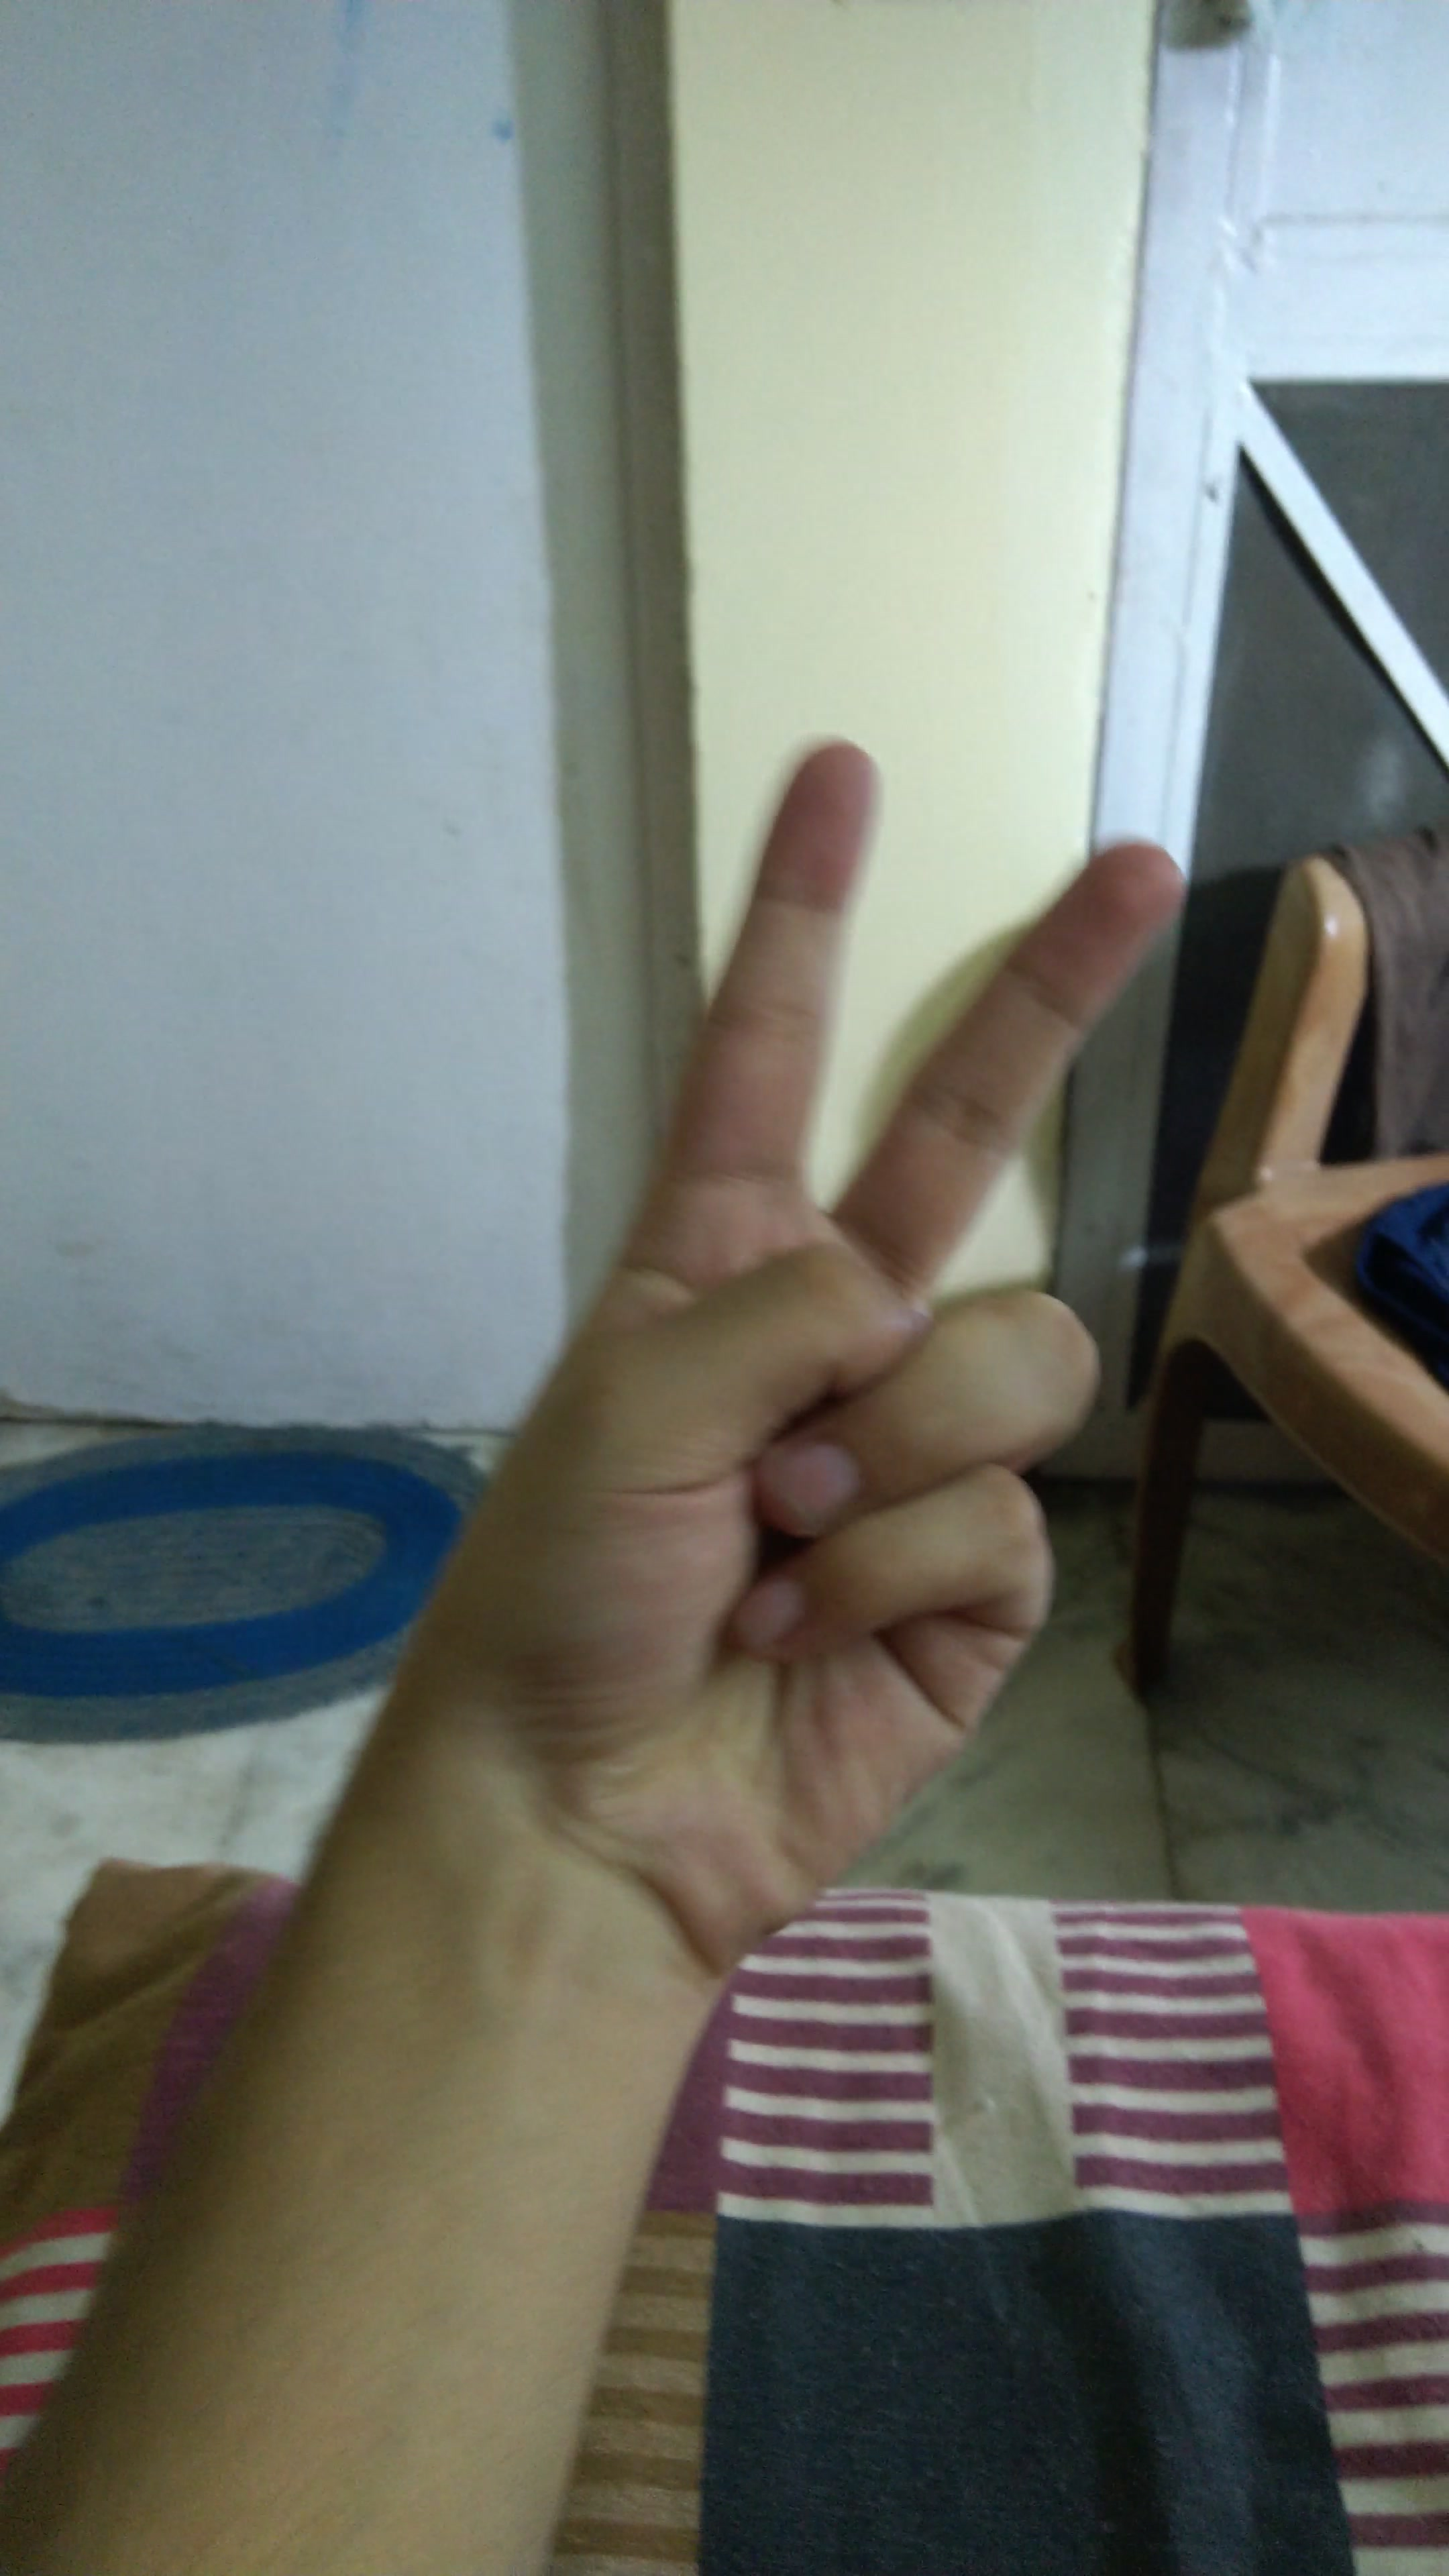hand: (317, 692, 1265, 2005)
